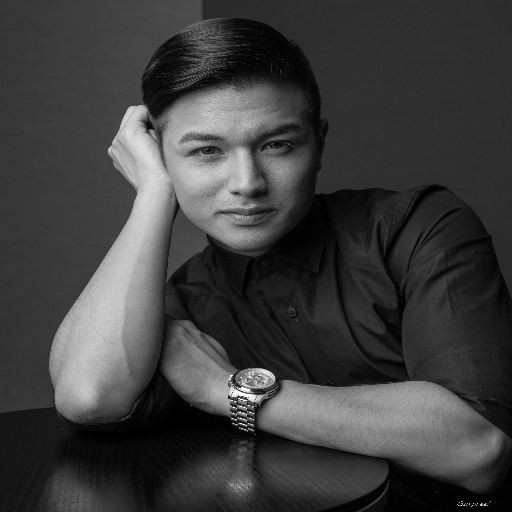hand: (107, 82, 176, 221), (158, 316, 239, 414)
